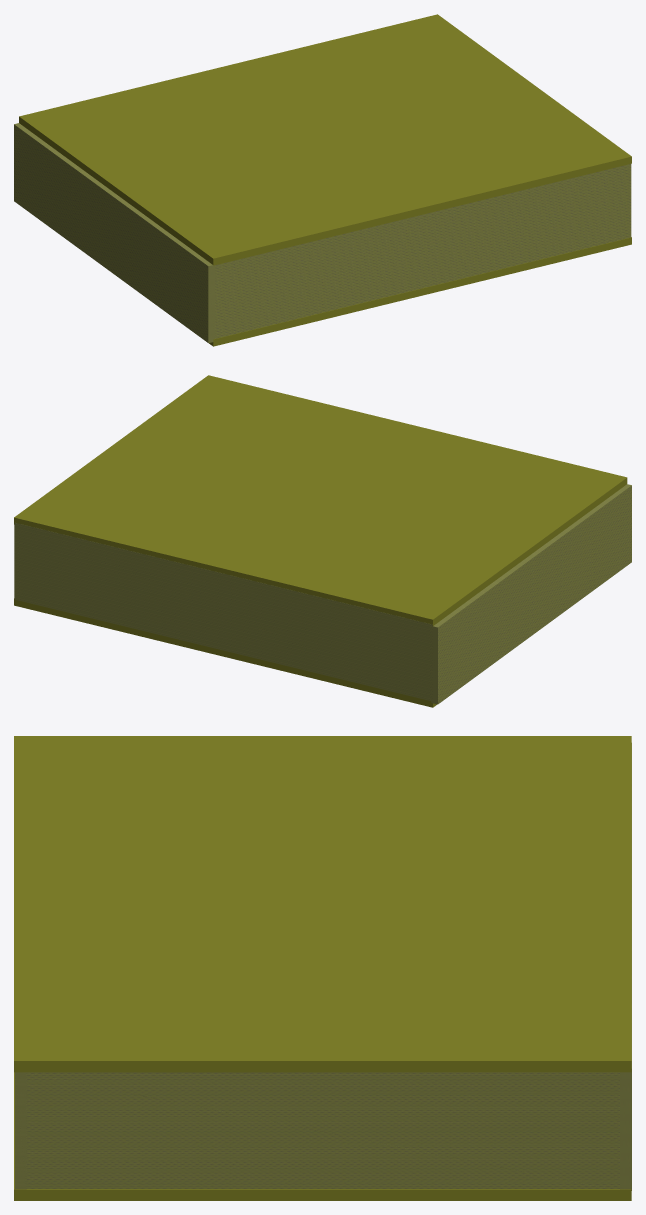
Rendered from BACKROOOMS.fbx.
The picture shows the model from 3 angles, top to bottom: view 1: azimuth 30°, elevation 25°; view 2: azimuth 150°, elevation 25°; view 3: azimuth 270°, elevation 25°; orthographic projection. The views are drawn at different scales.
Visible parts, largest first — view 1: Cube.001, Cube.002, Cube.004, Cube; view 2: Cube.001, Cube.003, Cube.004, Cube; view 3: Cube.001, Cube.005, Cube, Cube.003, Cube.002.
Part boxes in pixels (x1,y1,x2,y2): Cube.001: (19, 14, 631, 265); Cube.002: (215, 164, 631, 338); Cube.004: (14, 123, 214, 343); Cube: (209, 237, 631, 346); Cube.001: (14, 375, 627, 625); Cube.003: (14, 522, 432, 701); Cube.004: (431, 484, 631, 704); Cube: (14, 598, 436, 707); Cube.001: (14, 736, 631, 1072); Cube.005: (26, 1072, 619, 1188); Cube: (14, 1072, 631, 1200); Cube.003: (620, 744, 631, 1190); Cube.002: (15, 1072, 26, 1189).
Size of the model in its own units: 12238 by 2428 by 9723.
